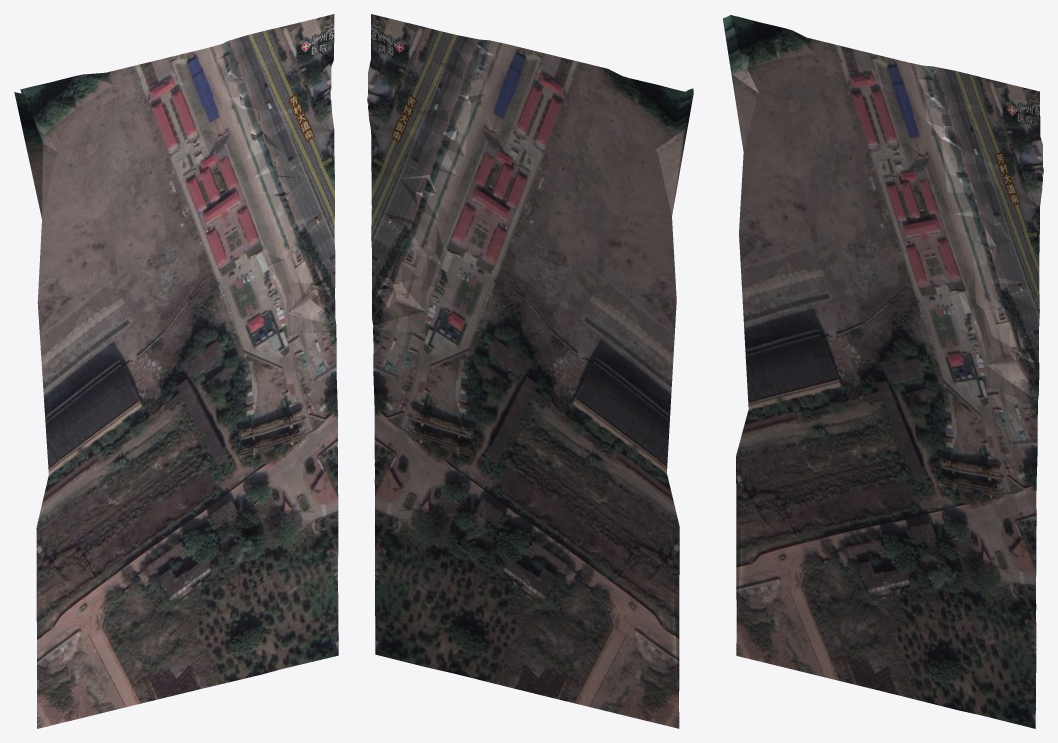
3 views of the same model, side by side, from view 1: azimuth 30°, elevation 25°; view 2: azimuth 150°, elevation 25°; view 3: azimuth 330°, elevation 25° (orthographic).
Parts seen in each view (by area): view 1: 0_3_3_1_2_0; view 2: 0_3_3_1_2_0; view 3: 0_3_3_1_2_0.
Part boxes in pixels (x1,y1,x2,y2): 0_3_3_1_2_0: (14,14,338,728); 0_3_3_1_2_0: (367,14,693,728); 0_3_3_1_2_0: (723,15,1043,728).
Size of the model in its own units: 255 by 486 by 18.75.
Materials: 1 (1 with a texture image).
